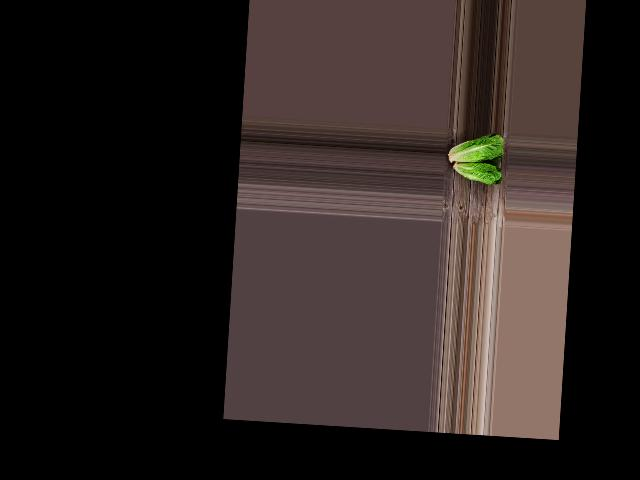lettuce: (445, 129, 506, 165)
